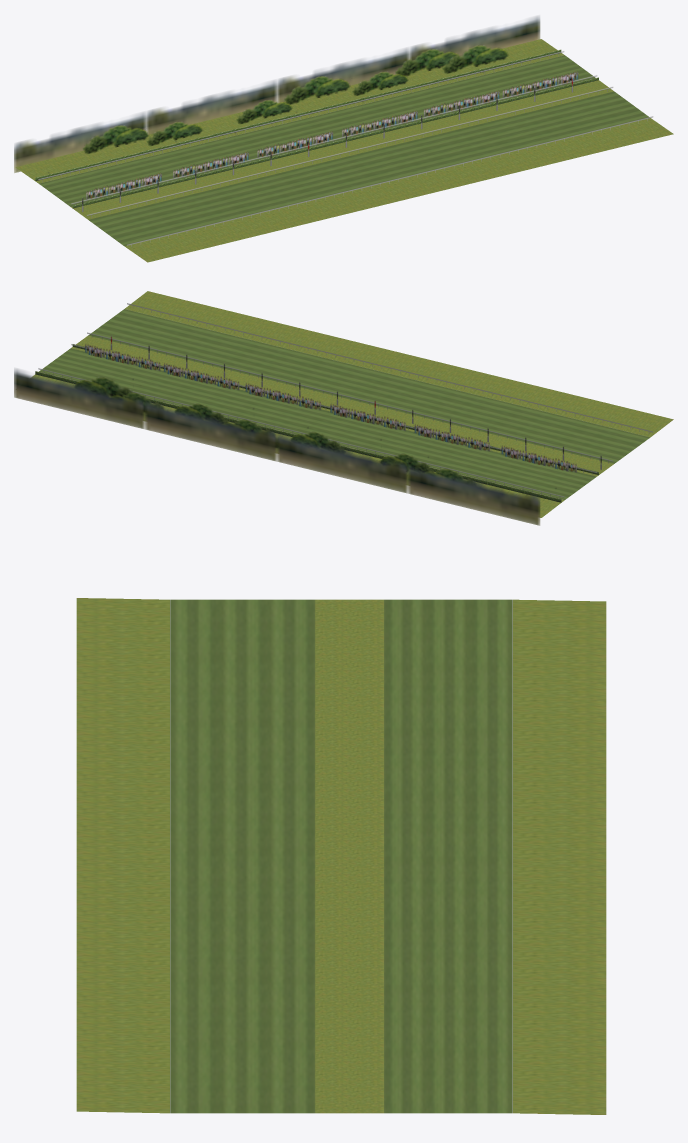
The model's file is road_scaled_0913.gltf.
The picture shows the model from 3 angles, top to bottom: view 1: azimuth 30°, elevation 25°; view 2: azimuth 150°, elevation 25°; view 3: azimuth 270°, elevation 25°; orthographic projection. The views are drawn at different scales.
Parts seen in each view (by area): view 1: ground, Plane.002, Plane, Plane.006, Plane.003, outer_track.012, outer_track.013, outer_track.011, outer_track.003, outer_track.002, outer_track.010, Plane.008; view 2: ground, Plane.002, Plane, Plane.006, Plane.003, outer_track.012, outer_track.002, outer_track.003, outer_track.011, outer_track.013, Plane.008, outer_track.010; view 3: ground.
Part boxes in pixels (bbox=[...]): ground: bbox=[15, 39, 673, 262]; Plane.002: bbox=[14, 16, 540, 172]; Plane: bbox=[86, 71, 578, 199]; Plane.006: bbox=[147, 45, 508, 145]; Plane.003: bbox=[83, 48, 459, 153]; outer_track.012: bbox=[35, 49, 561, 180]; outer_track.013: bbox=[72, 77, 598, 208]; outer_track.011: bbox=[38, 51, 564, 181]; outer_track.003: bbox=[87, 87, 613, 217]; outer_track.002: bbox=[127, 116, 653, 246]; outer_track.010: bbox=[71, 75, 597, 204]; Plane.008: bbox=[82, 78, 573, 211]; ground: bbox=[31, 291, 673, 517]; Plane.002: bbox=[14, 369, 540, 525]; Plane: bbox=[85, 344, 576, 472]; Plane.006: bbox=[74, 377, 434, 473]; Plane.003: bbox=[110, 392, 476, 485]; outer_track.012: bbox=[35, 371, 561, 502]; outer_track.002: bbox=[127, 303, 653, 433]; outer_track.003: bbox=[87, 332, 613, 463]; outer_track.011: bbox=[38, 368, 563, 498]; outer_track.013: bbox=[72, 344, 598, 474]; Plane.008: bbox=[110, 336, 601, 469]; outer_track.010: bbox=[71, 344, 597, 474]; ground: bbox=[76, 598, 606, 1114].
Size of the model in its own units: 120 by 6.65 by 52.82.
Materials: 1 (1 with a texture image).
